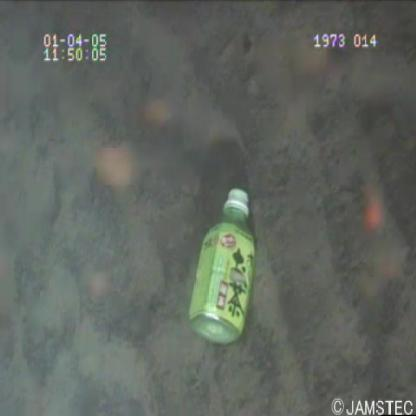Rác: (180, 180, 261, 354)
